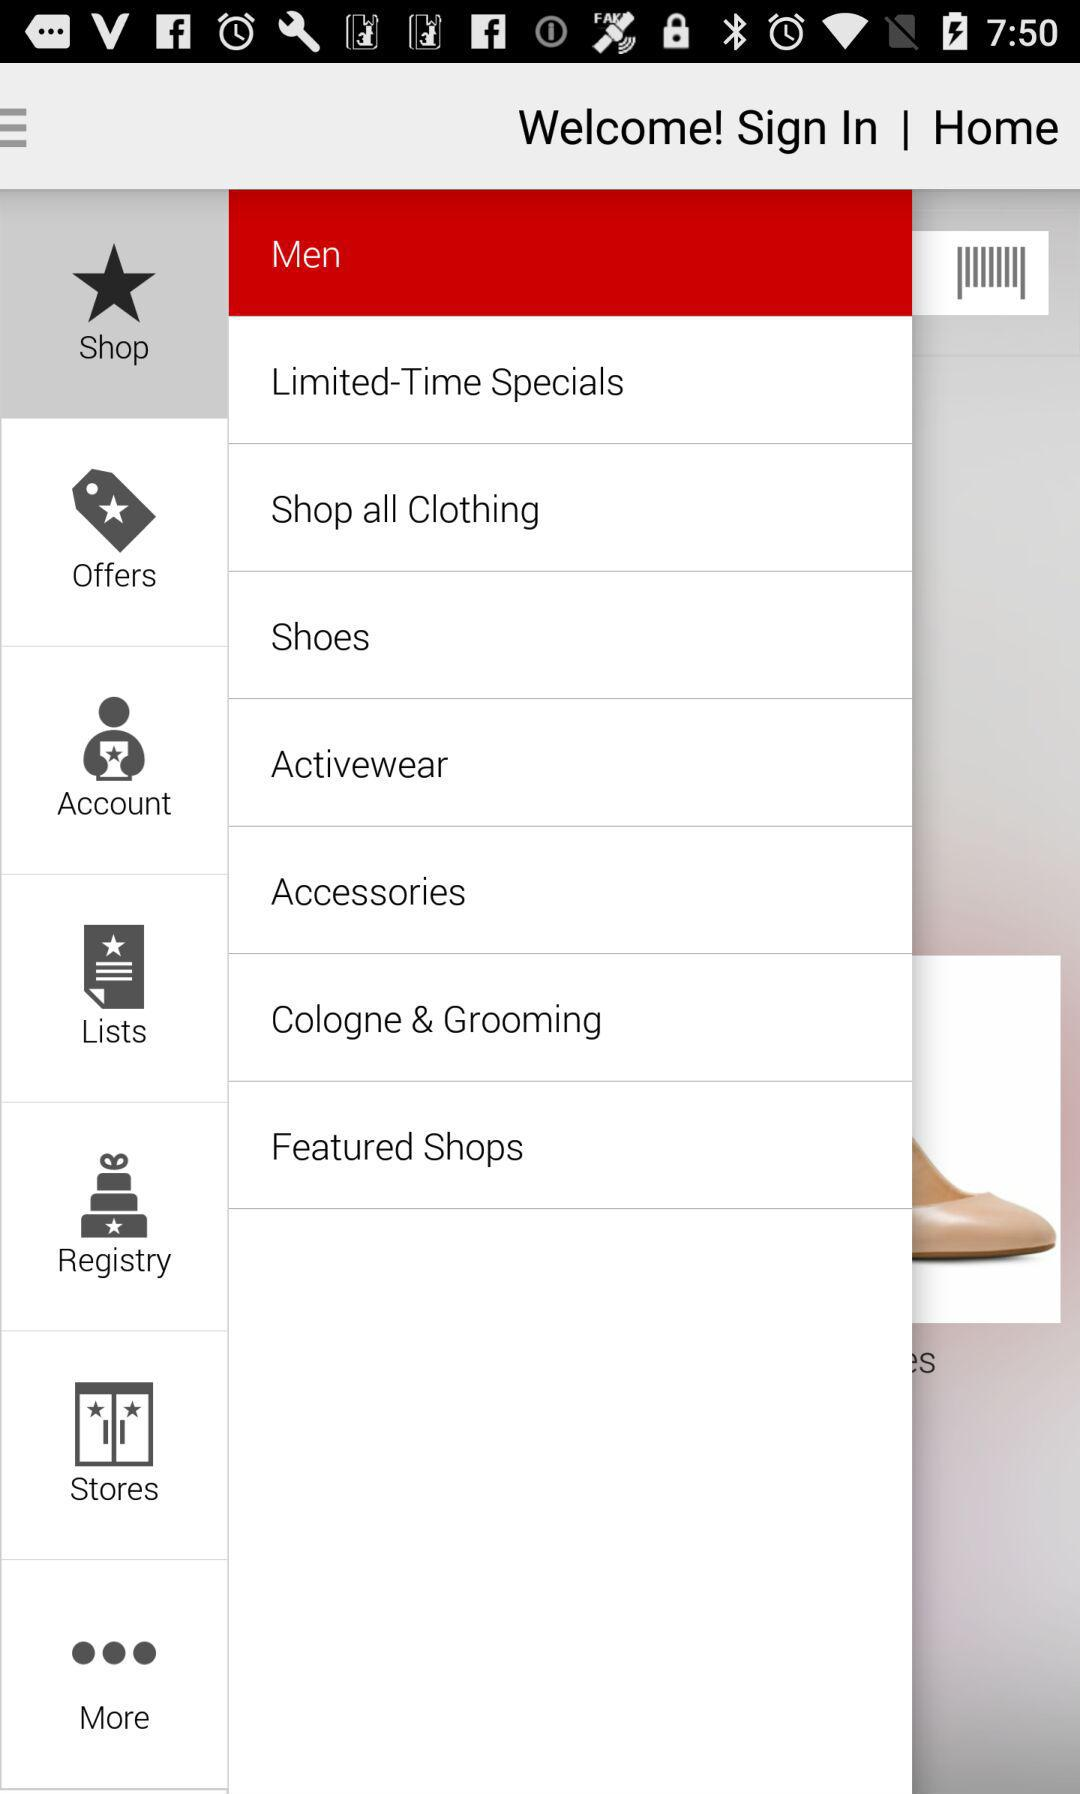Drawer: (1, 190, 912, 1794)
Icon: (72, 468, 158, 555), (72, 243, 158, 325), (76, 1380, 155, 1469), (79, 1151, 149, 1239), (83, 696, 147, 783), (83, 924, 146, 1011), (70, 1640, 159, 1667), (1, 104, 28, 147)
Text: (518, 108, 1060, 158), (273, 365, 625, 404), (272, 1002, 602, 1041), (272, 492, 541, 532), (272, 1130, 524, 1169), (270, 876, 466, 909), (270, 748, 450, 780), (59, 1246, 173, 1280), (272, 620, 372, 652), (56, 791, 174, 818), (78, 333, 150, 369), (73, 561, 158, 589), (70, 1476, 160, 1502), (273, 240, 341, 270), (79, 1706, 152, 1731), (83, 1017, 149, 1044)
Toolbar: (1, 65, 1080, 190)
UpperTaskBar: (1, 1, 1080, 64)
